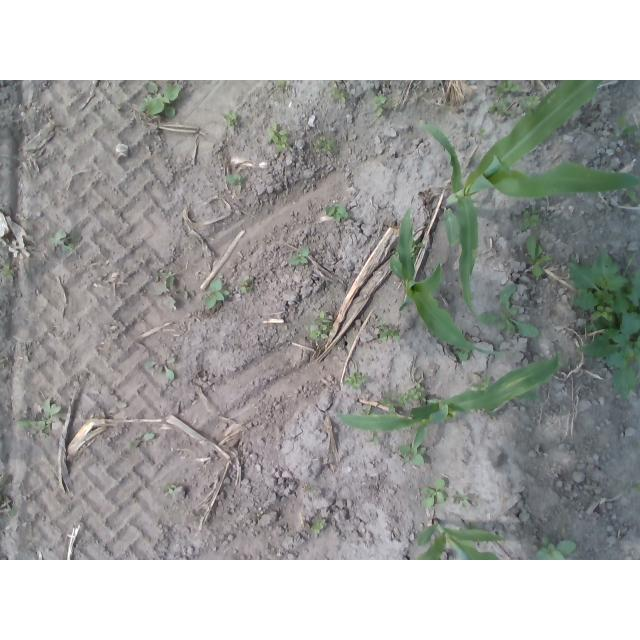Maize: (421, 80, 640, 320), (333, 347, 563, 454), (385, 205, 515, 359), (411, 520, 505, 561)
Weeds: (567, 248, 640, 398), (478, 285, 539, 338), (16, 397, 64, 439), (142, 269, 191, 310), (139, 80, 182, 118), (521, 234, 551, 278), (531, 534, 578, 560), (398, 423, 426, 466), (48, 229, 82, 255), (203, 280, 230, 310), (264, 120, 289, 152), (143, 356, 176, 380), (391, 239, 424, 263), (308, 311, 335, 339), (423, 478, 446, 509), (369, 94, 396, 118), (613, 114, 637, 138), (324, 83, 349, 106), (378, 394, 405, 415), (487, 97, 514, 117), (322, 204, 349, 223), (313, 136, 336, 157), (377, 321, 400, 342), (405, 382, 428, 403), (343, 372, 369, 390), (128, 432, 157, 448), (517, 94, 540, 114), (519, 209, 539, 232), (469, 369, 490, 390), (223, 172, 245, 192), (222, 109, 242, 131), (452, 341, 473, 361), (286, 248, 310, 265), (492, 80, 521, 94), (237, 274, 255, 294), (623, 186, 640, 205), (454, 489, 470, 509), (0, 262, 16, 278), (0, 473, 8, 503), (311, 518, 325, 534), (365, 430, 379, 445), (358, 406, 374, 415), (273, 81, 288, 88), (165, 483, 175, 493), (633, 478, 640, 491), (115, 100, 122, 112), (477, 128, 486, 136)
